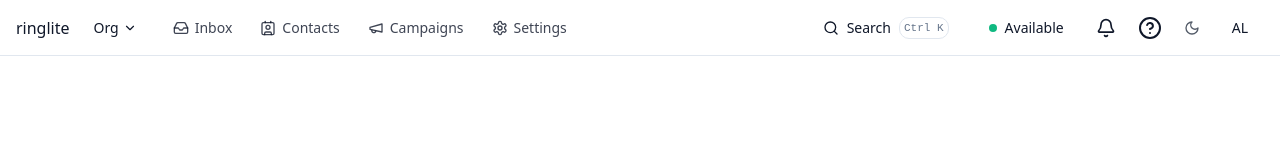
Test: TopBar › switches workspace from the top bar
Step 1. Click the button with aria-label "Switch workspace" → (115, 28), box [78,10,153,46]
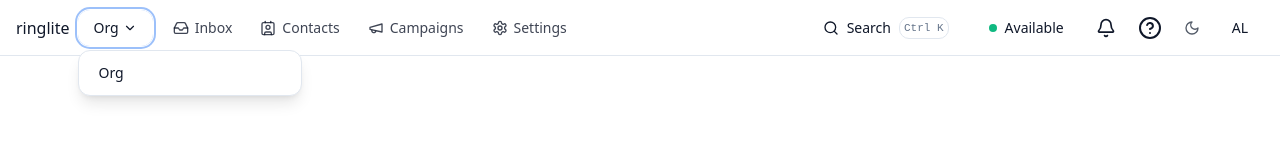
Expected: the menu named "Workspaces" is shown, [78,50,302,96]
